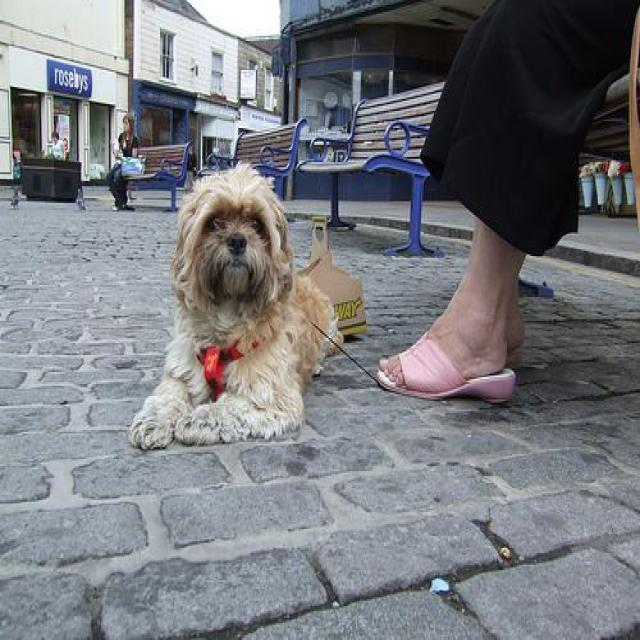shih_tzu: (128, 165, 342, 449)
